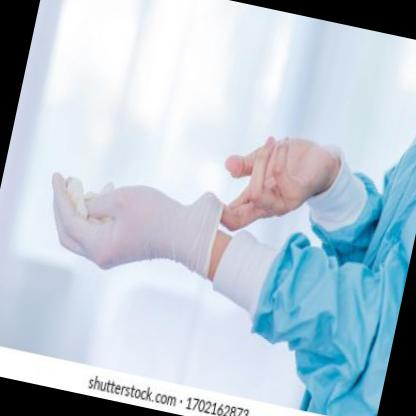Gloves: (34, 157, 226, 291)
